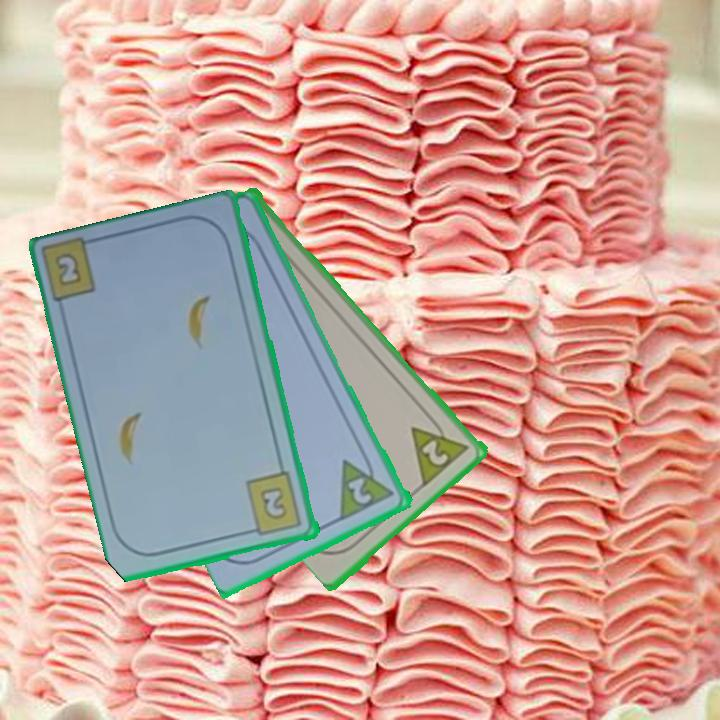2b: (242, 469, 305, 539), (51, 249, 85, 290)
2p: (407, 409, 473, 488), (336, 447, 399, 523)
